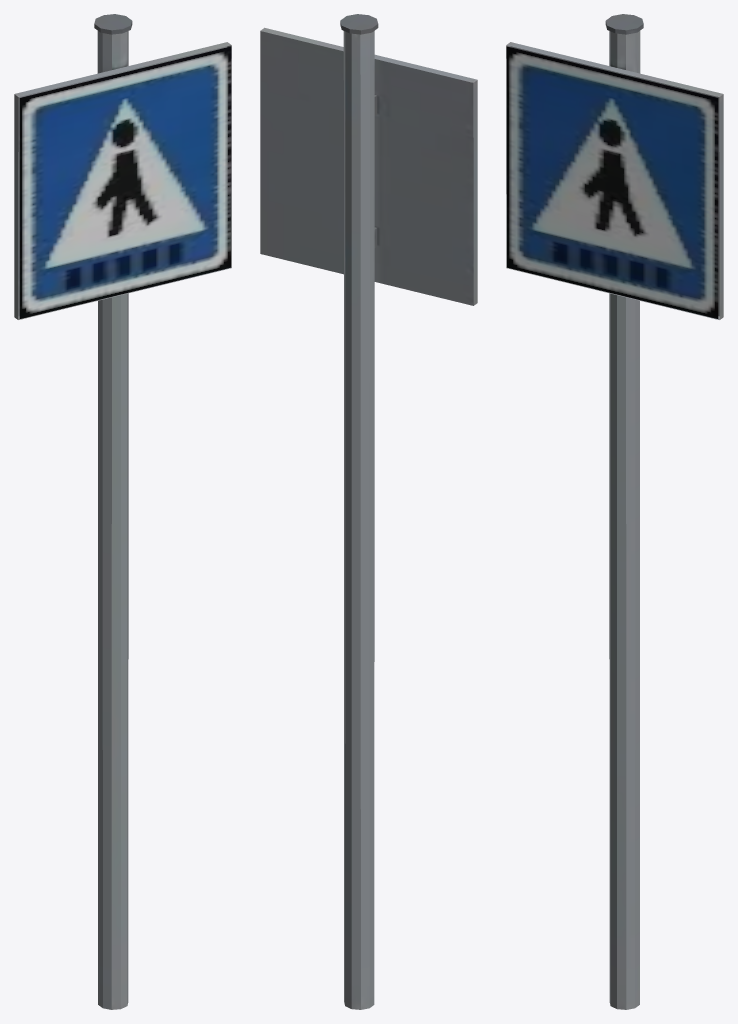
File: sign_crosswalk.glb
3 views of the same model, side by side, from view 1: azimuth 30°, elevation 25°; view 2: azimuth 150°, elevation 25°; view 3: azimuth 330°, elevation 25° (orthographic).
Parts seen in each view (by area): view 1: sign_crosswalk_LOD0; view 2: sign_crosswalk_LOD0; view 3: sign_crosswalk_LOD0.
Boxes of the visible parts, bbox=[...] form: sign_crosswalk_LOD0: bbox=[14, 14, 231, 1009]; sign_crosswalk_LOD0: bbox=[260, 14, 477, 1009]; sign_crosswalk_LOD0: bbox=[506, 14, 723, 1009].
Size of what is drawn, in the model's own units: 0.6055 by 2.66 by 0.1074.
Materials: 1 (1 with a texture image).
